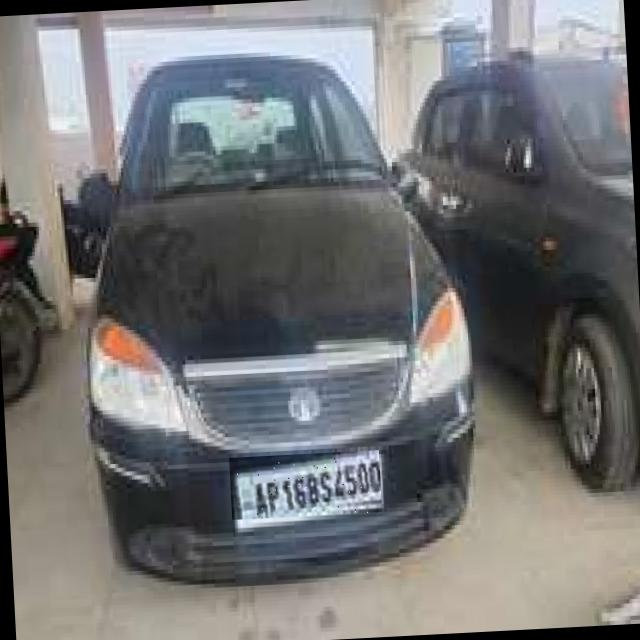Plate: (230, 451, 383, 521)
